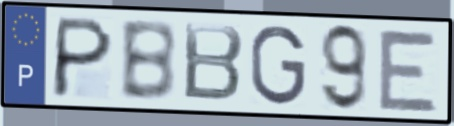9: (318, 21, 370, 114)
B: (181, 20, 246, 105), (117, 17, 179, 104)
E: (375, 25, 440, 115)
G: (247, 23, 308, 108)
P: (47, 15, 117, 101)
